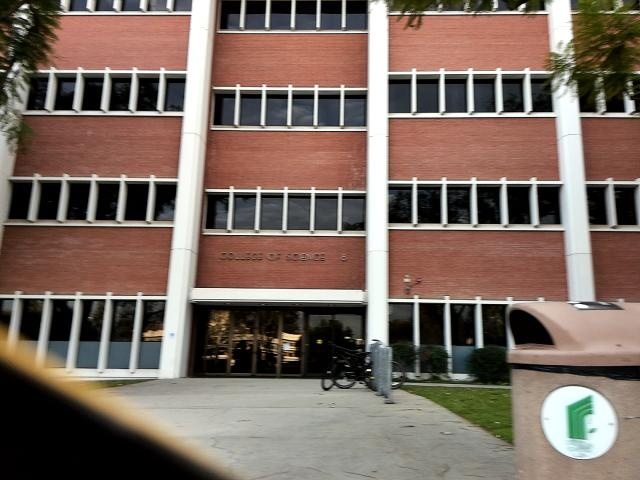trashcan: (491, 291, 640, 480)
